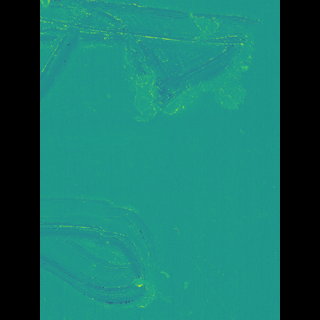Loch: (69, 0, 238, 125), (69, 190, 162, 312)
